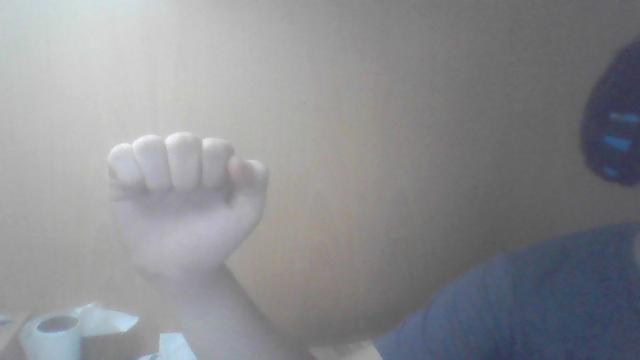forward: (106, 130, 270, 282)
